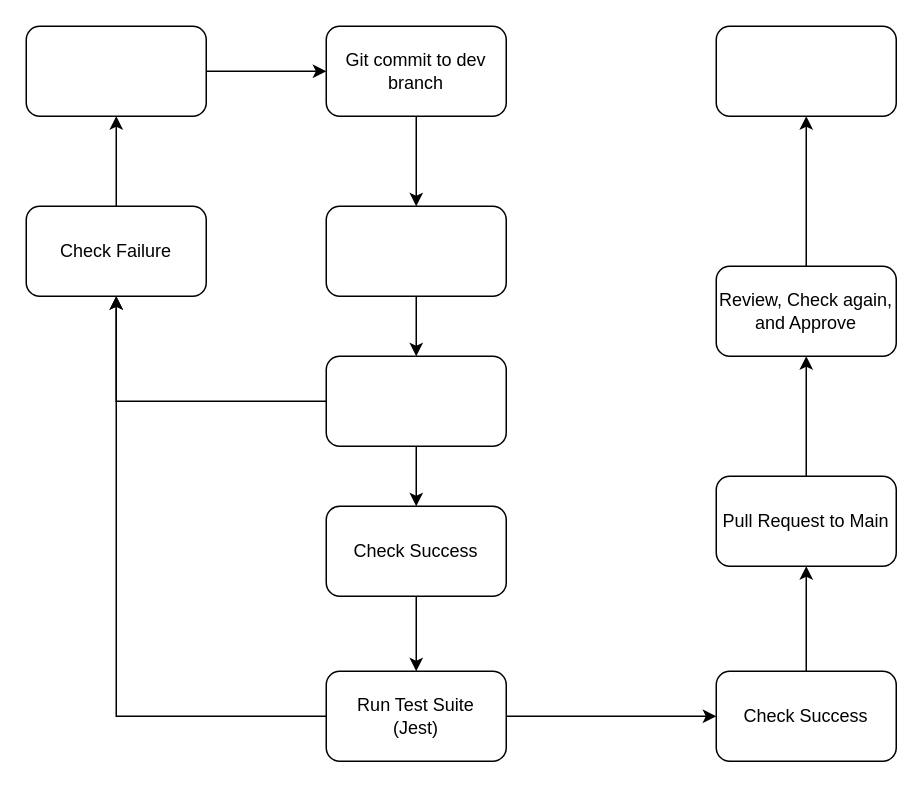
This 923x788 diagram has some shape labels left out. Each missing label, with the centre of its shape:
"Codacy Analysis (Code Quality Check)" belongs at point 415,400.
"Deployment" belongs at point 805,70.
"Local Code" belongs at point 115,70.
"Push changes" belongs at point 415,250.
